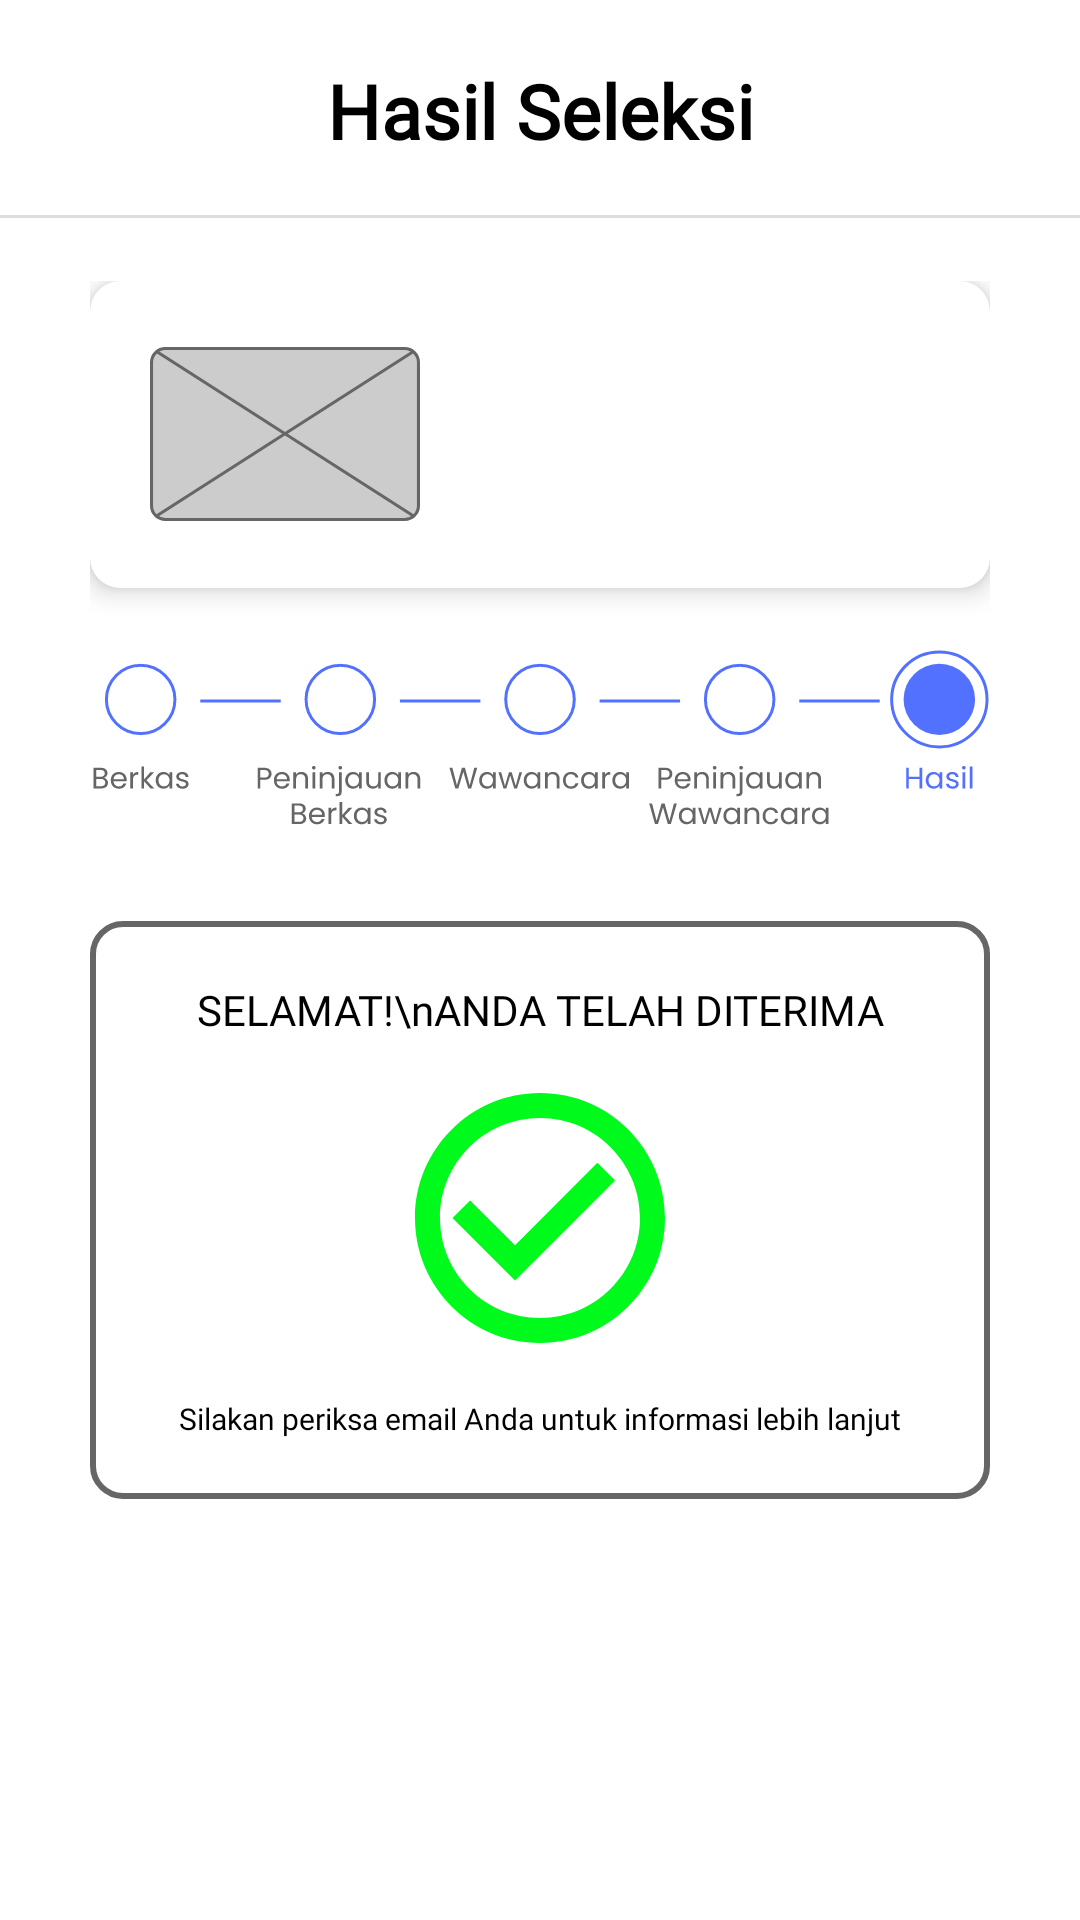

Where to tap for icons on this 1080px x 1920px app screen, as point (x, y):
accept: point (540, 1218)
